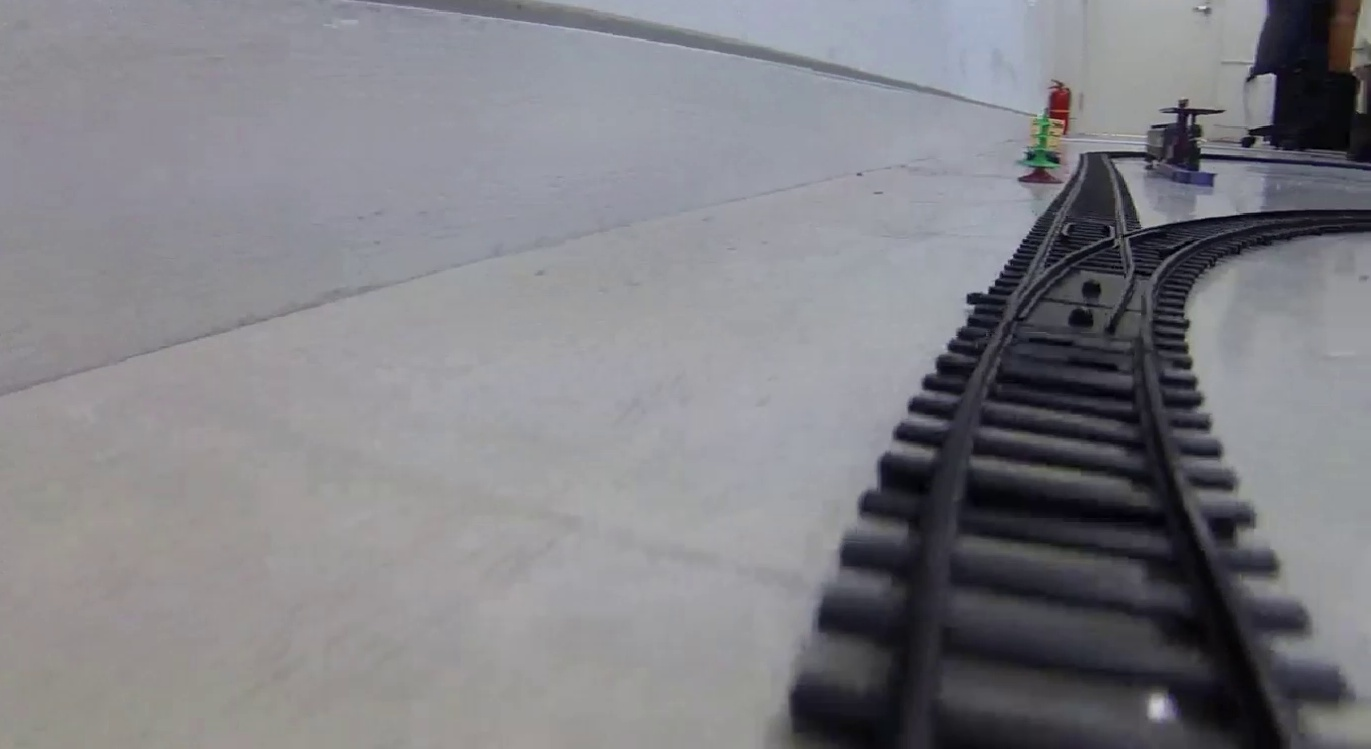tree: (1019, 110, 1064, 186)
